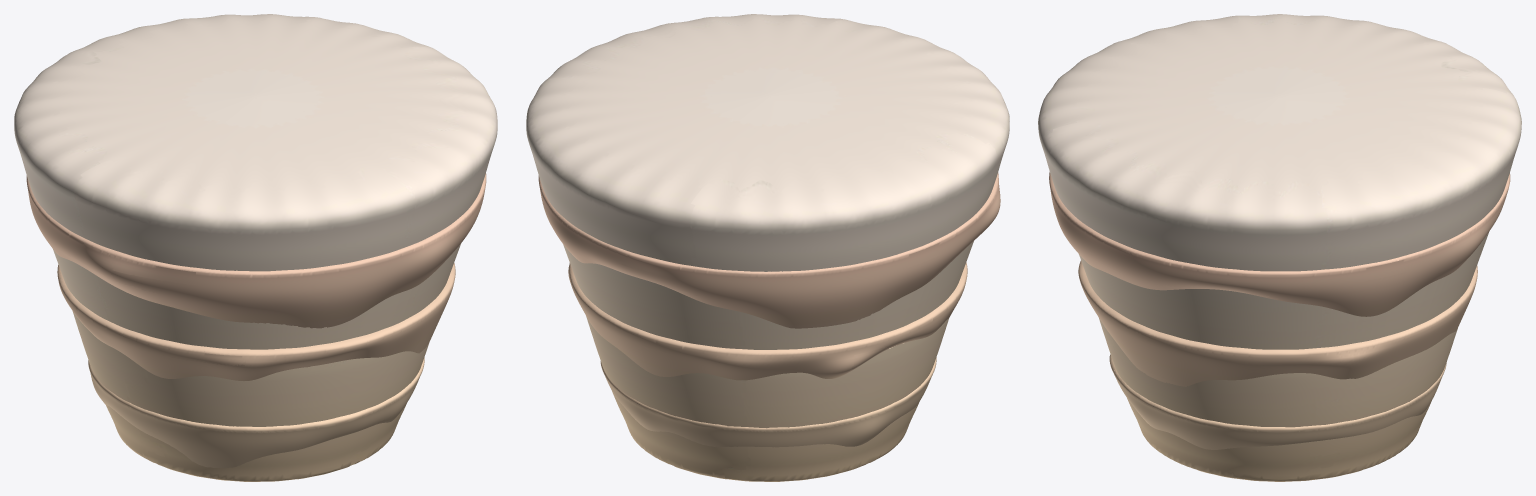
File: PostreSweetHelp_Base_normal.glb
The picture shows the model from 3 angles, left to right: view 1: azimuth 30°, elevation 25°; view 2: azimuth 150°, elevation 25°; view 3: azimuth 270°, elevation 25°; orthographic projection.
Visible parts, largest first — view 1: CremaBasw, crema_Suelta; view 2: CremaBasw, crema_Suelta; view 3: CremaBasw, crema_Suelta.
Part boxes in pixels (x1,y1,x2,y2): CremaBasw: (14, 14, 497, 481); crema_Suelta: (26, 173, 486, 468); CremaBasw: (526, 14, 1009, 481); crema_Suelta: (538, 172, 1000, 447); CremaBasw: (1038, 14, 1521, 481); crema_Suelta: (1049, 172, 1510, 449).
Bounding box in the file's own units: 2.5 × 1.89 × 2.5.
Materials: 2 (2 with a texture image).
